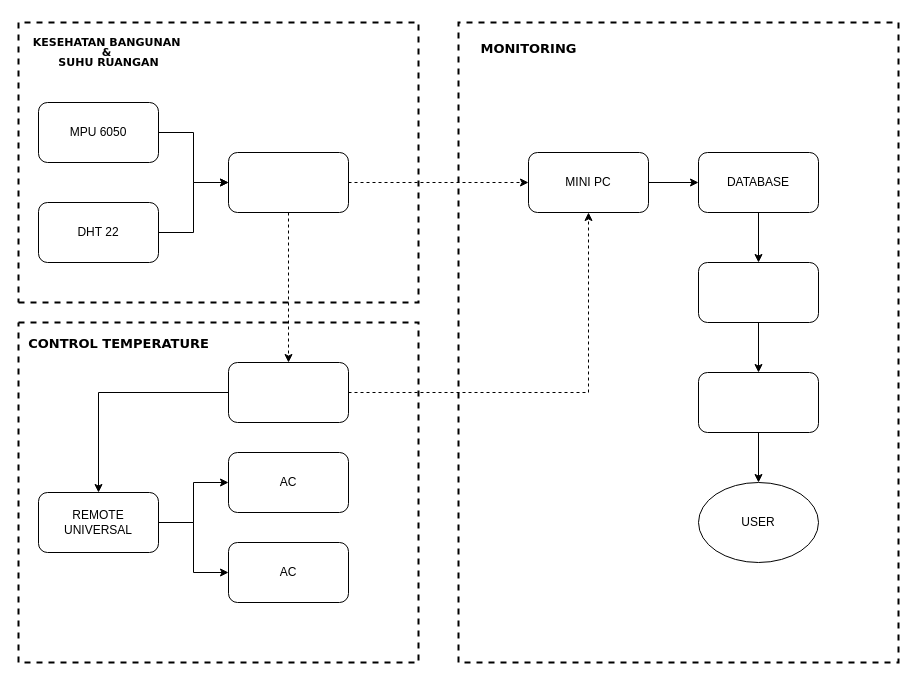
Image size: 917x681. Some labels were removed from this diagram. The shapes that lost their labels are listed below. From the top down, each one's box as (x1, y1, x2, y2) in pixels, then its label:
(228, 152, 348, 212): ATMEGA ESP 8266
(698, 262, 818, 322): SERVER
(228, 362, 348, 422): ESP32
(698, 372, 818, 432): UI
